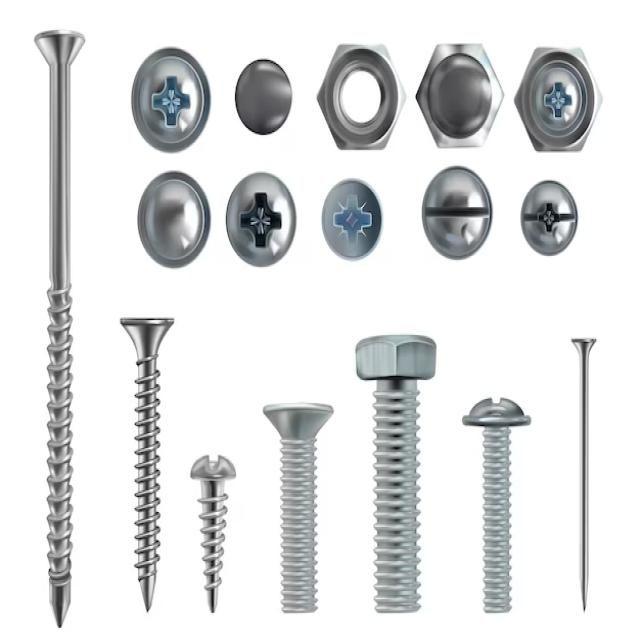Logam: (22, 16, 84, 632), (343, 315, 439, 614), (106, 299, 180, 632), (254, 376, 336, 626), (462, 363, 536, 621), (562, 321, 613, 622), (316, 32, 420, 171), (514, 28, 611, 167), (416, 34, 502, 162), (125, 34, 209, 164), (414, 160, 501, 274), (514, 172, 596, 284), (124, 168, 215, 268), (187, 437, 235, 617), (308, 173, 394, 270), (224, 168, 296, 268), (232, 47, 301, 149)
